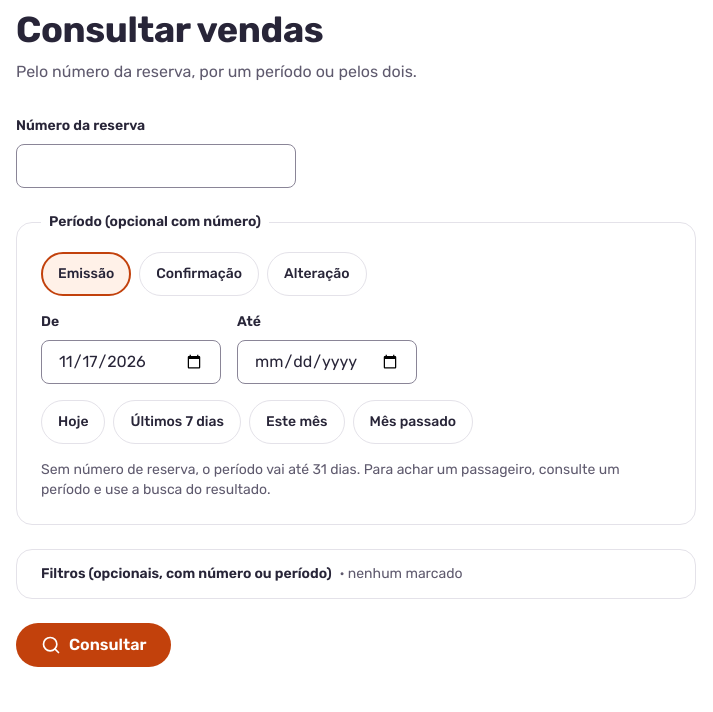
Test: só uma das datas: pede as duas e leva o foco à que falta
Click the button "Consultar" at [94, 645], box [16, 623, 171, 667]
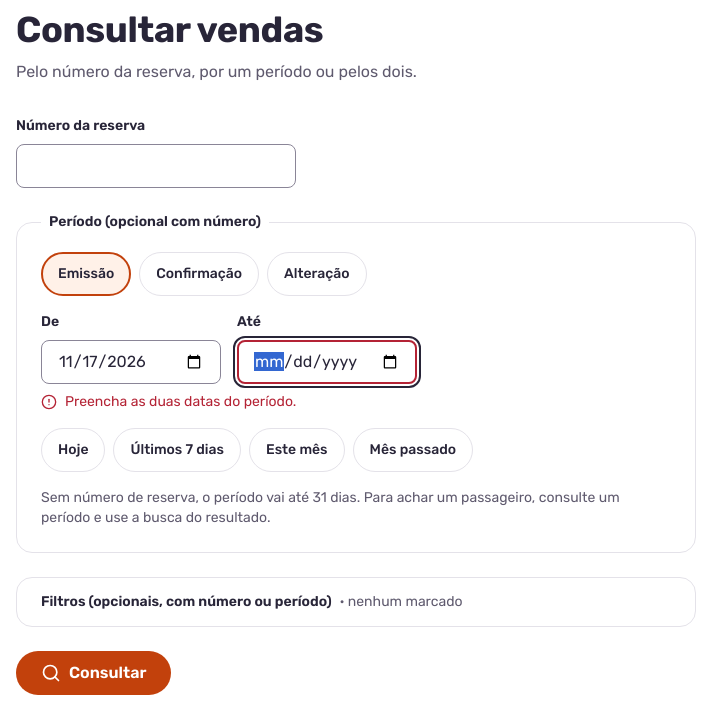
Expected: the text "Preencha as duas datas do período." is shown, [41, 393, 296, 410]
